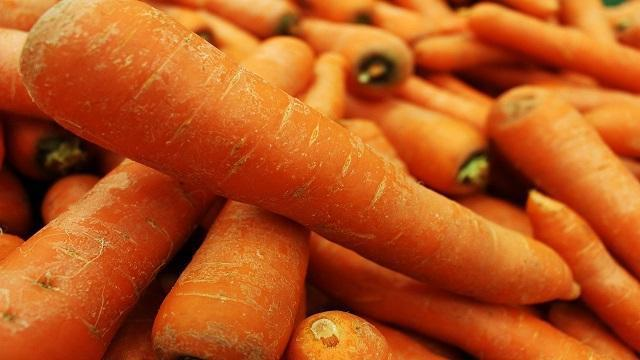carrot: (25, 1, 584, 319), (396, 51, 622, 360), (0, 166, 298, 360)
